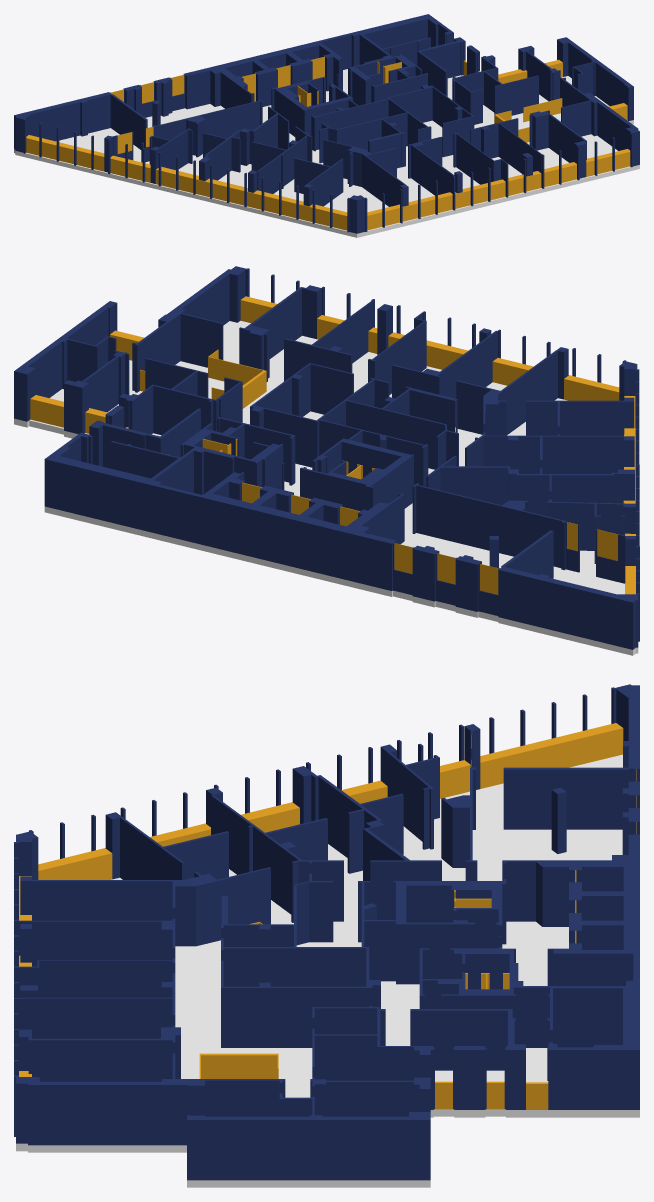
The model's file is 1855B 8th Floor.fbx.
3 renders of one model, top to bottom at view 1: azimuth 30°, elevation 25°; view 2: azimuth 150°, elevation 25°; view 3: azimuth 270°, elevation 25°, orthographic. The views are drawn at different scales.
Parts seen in each view (by area): view 1: Walls, Interior Member, Object_88; view 2: Walls, Interior Member, Object_88; view 3: Walls, Object_88, Interior Member.
Boxes of the visible parts, bbox=[...] form: Walls: bbox=[14, 14, 639, 233]; Interior Member: bbox=[26, 56, 630, 230]; Object_88: bbox=[14, 69, 639, 237]; Walls: bbox=[14, 266, 639, 649]; Interior Member: bbox=[30, 296, 635, 594]; Object_88: bbox=[14, 320, 638, 655]; Walls: bbox=[14, 684, 639, 1180]; Object_88: bbox=[16, 754, 639, 1187]; Interior Member: bbox=[19, 723, 636, 1109].
Bounding box in the file's own units: 1492 × 906 × 108.
